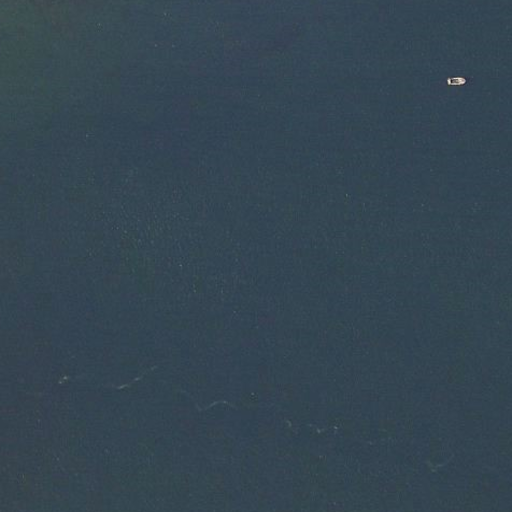ship: (445, 75, 470, 88)
